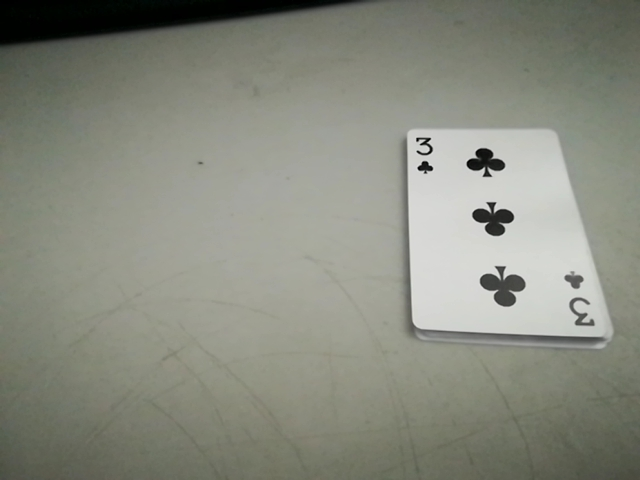mh 3: (559, 270, 601, 337), (411, 131, 443, 178)
